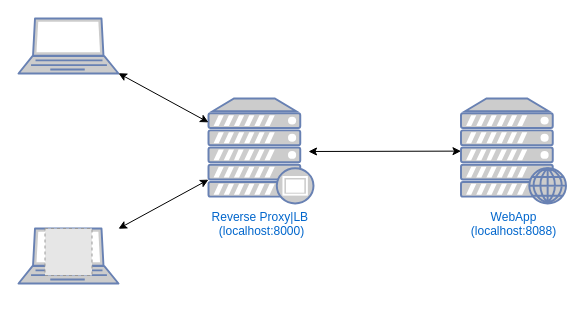
The diagram is 584 pixels wide and 321 high, and some of its shapes have lost their labels. Grey dashed boxes stand in for pictures. The shapes that lost their labels are listed below. From the top down, each one's box as (x1, y1, x2, y2) in pixels, then its label:
(17, 17, 119, 74): Regular user (good paths)
(17, 227, 119, 284): Attacker
